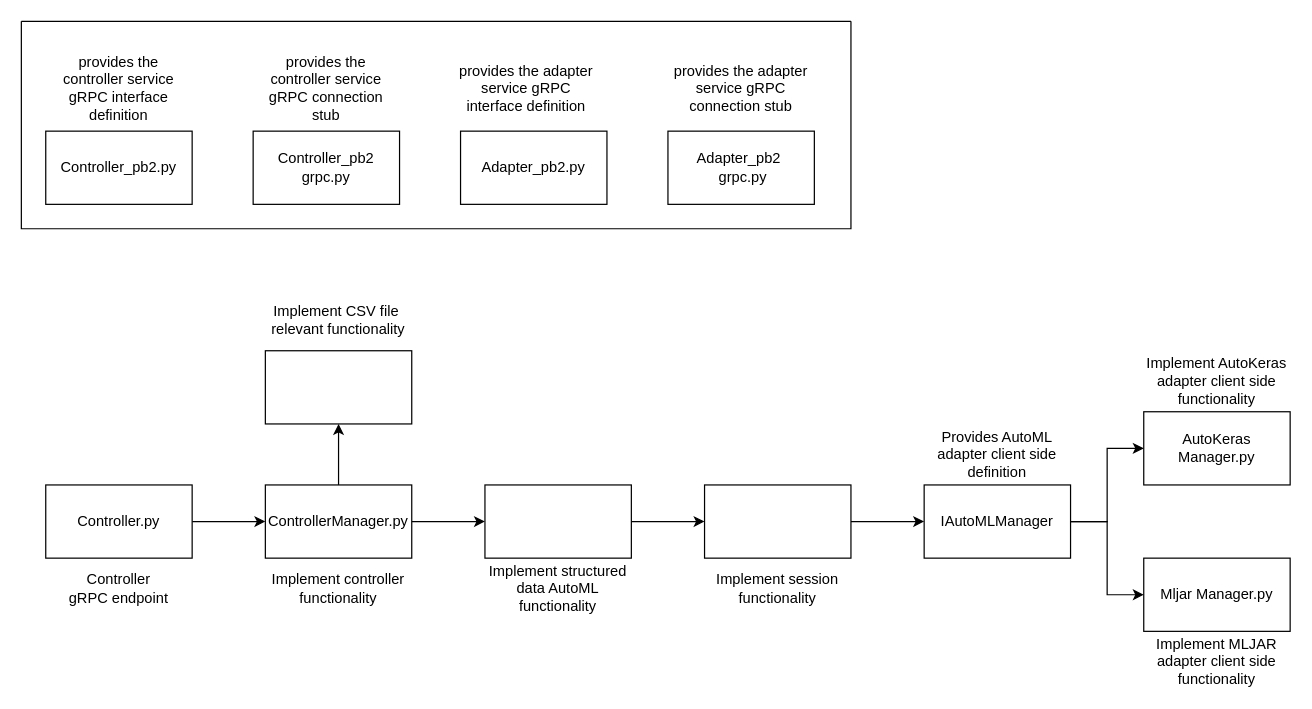
The diagram is 1312 pixels wide and 709 high, and some of its shapes have lost their labels. The centre of each missing label's shape, as x and y in pixels:
"CsvManager.py" goes at [338,387].
"Referenced in most classes" goes at [435,124].
"SessionManager.py" goes at [777,521].
"StructuredData Manager.py" goes at [557,521].
